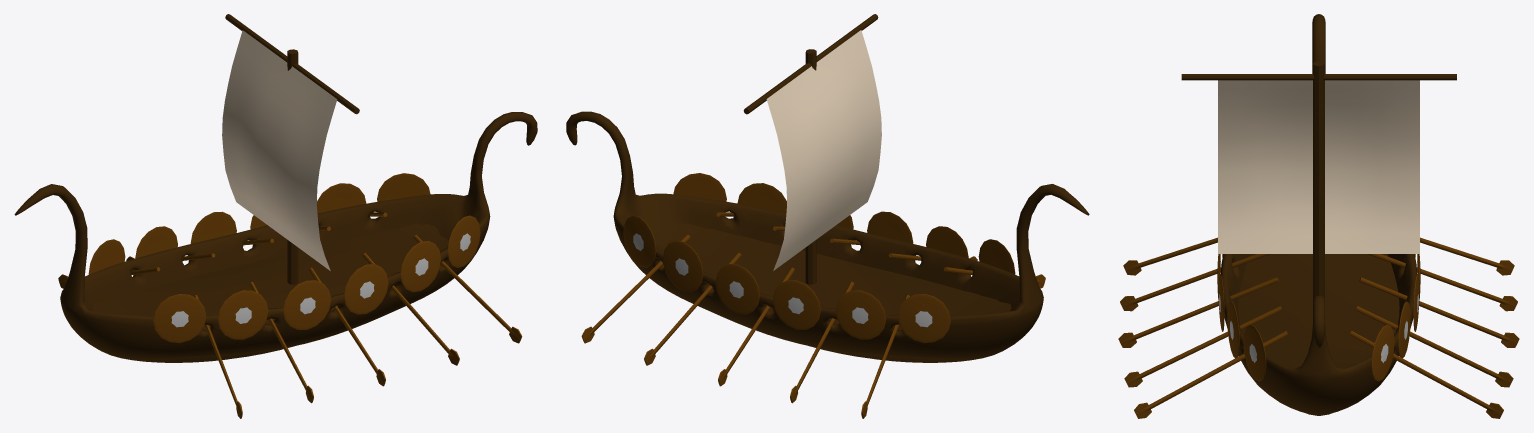
File: Drakkar.fbx
3 renders of one model, left to right at view 1: azimuth 30°, elevation 25°; view 2: azimuth 150°, elevation 25°; view 3: azimuth 270°, elevation 25°, orthographic. The views are drawn at different scales.
Visible parts, largest first — view 1: polySurface1, pPlane1, polySurface2, pCylinder10 (×2), pCylinder8 (×2), pCylinder9 (×2), pCylinder12 (×2), pCylinder13 (×2), pCylinder11, pCylinder7, pCylinder6, pCylinder3 (+3 smaller); view 2: polySurface1, pPlane1, polySurface2, pCylinder10 (×2), pCylinder8 (×2), pCylinder9 (×2), pCylinder12 (×2), pCylinder13 (×2), pCylinder11, pCylinder7, pCylinder6, pCylinder3 (+3 smaller); view 3: pPlane1, polySurface2, polySurface1, pCylinder6, pCylinder2 (×2), pCylinder1 (×2), pCylinder13 (×2), pCylinder3 (×2), pCylinder7, pCylinder4 (×2), pCylinder5 (×2), pCylinder12 (×2).
Part boxes in pixels (x1,y1,x2,y2): polySurface1: [14, 112, 537, 362]; pPlane1: [222, 30, 337, 270]; polySurface2: [92, 223, 448, 330]; pCylinder10 (×2): [88, 239, 206, 343]; pCylinder8 (×2): [190, 211, 331, 329]; pCylinder9 (×2): [135, 226, 268, 339]; pCylinder12 (×2): [316, 183, 440, 292]; pCylinder13 (×2): [377, 173, 480, 267]; pCylinder11: [344, 264, 388, 314]; pCylinder7: [225, 14, 359, 114]; pCylinder6: [287, 49, 298, 284]; pCylinder3: [413, 235, 522, 343]; polySurface1: [566, 111, 1089, 362]; pPlane1: [766, 30, 881, 270]; polySurface2: [655, 223, 1011, 330]; pCylinder10 (×2): [897, 239, 1015, 343]; pCylinder8 (×2): [772, 211, 913, 329]; pCylinder9 (×2): [835, 226, 968, 339]; pCylinder12 (×2): [662, 183, 786, 291]; pCylinder13 (×2): [623, 173, 726, 267]; pCylinder11: [715, 264, 759, 314]; pCylinder7: [743, 14, 878, 114]; pCylinder6: [805, 49, 816, 284]; pCylinder3: [581, 234, 690, 343]; pPlane1: [1218, 80, 1419, 253]; polySurface2: [1238, 254, 1399, 368]; polySurface1: [1221, 14, 1416, 415]; pCylinder6: [1313, 61, 1324, 299]; pCylinder2 (×2): [1124, 306, 1513, 387]; pCylinder1 (×2): [1118, 277, 1519, 347]; pCylinder13 (×2): [1243, 324, 1394, 381]; pCylinder3 (×2): [1134, 331, 1503, 418]; pCylinder7: [1181, 74, 1456, 80]; pCylinder4 (×2): [1120, 254, 1517, 311]; pCylinder5 (×2): [1123, 237, 1514, 275]; pCylinder12 (×2): [1227, 301, 1410, 358].
Size of the model in its own units: 5.37 by 2.9 by 3.36.
